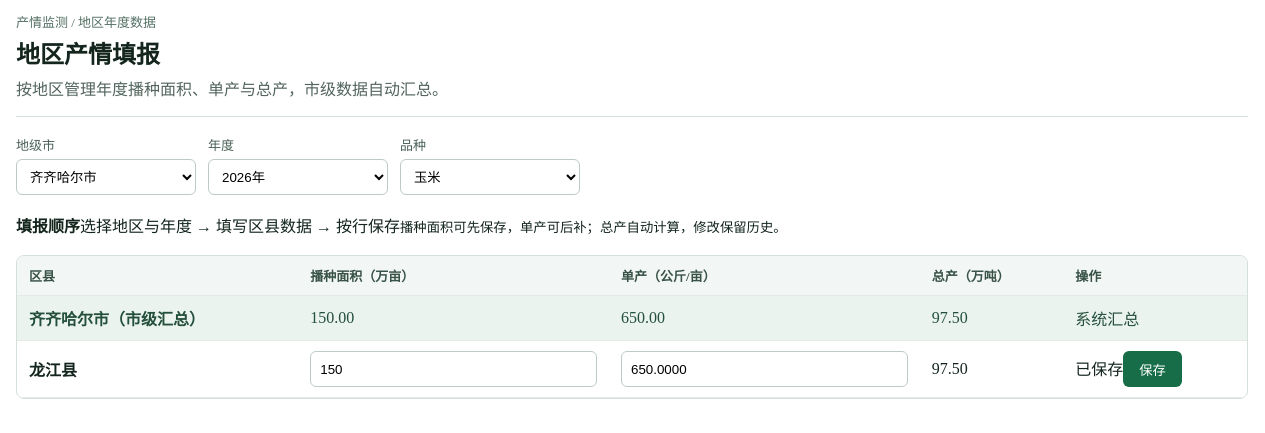
Test: RegionalAnnualProductionWorkspace › blocks stale regional values while a newly selected product is loading
Expected: the number field showing "150" is shown, [310,351,597,387]
Select "大豆" in the dropdown named "地区产情品种" at (490, 177), box [400,159,580,195]
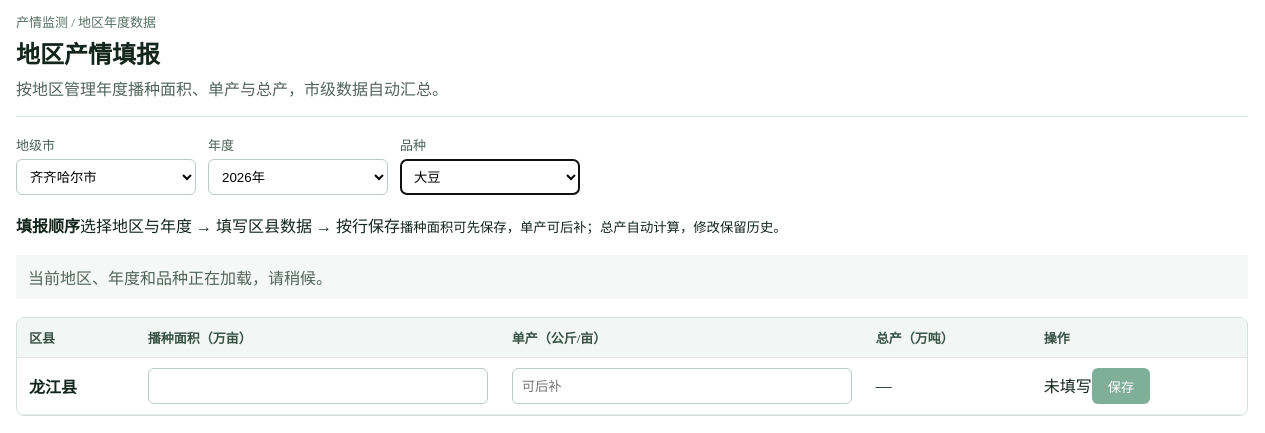
Expected: the number field named "龙江县播种面积" is disabled, [148,368,488,404]
Expected: the number field named "龙江县播种面积" is not empty, [148,368,488,404]
Expected: the button with aria-label "保存龙江县" is disabled, [1092,368,1150,404]
